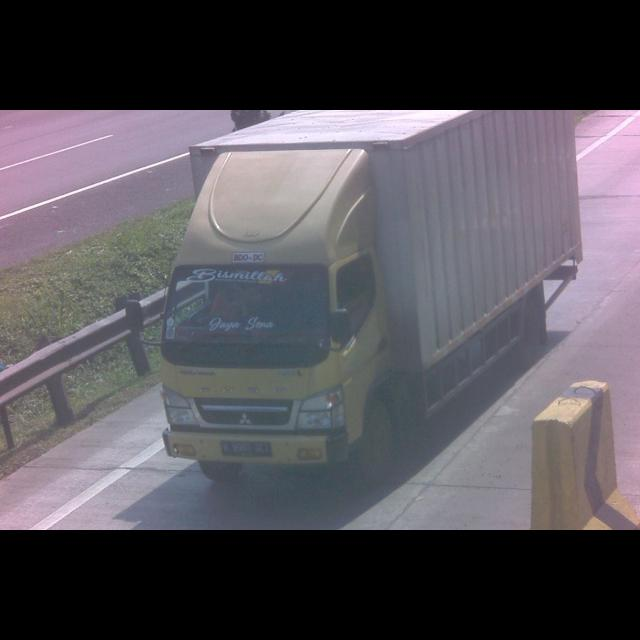plate: (218, 436, 274, 459)
